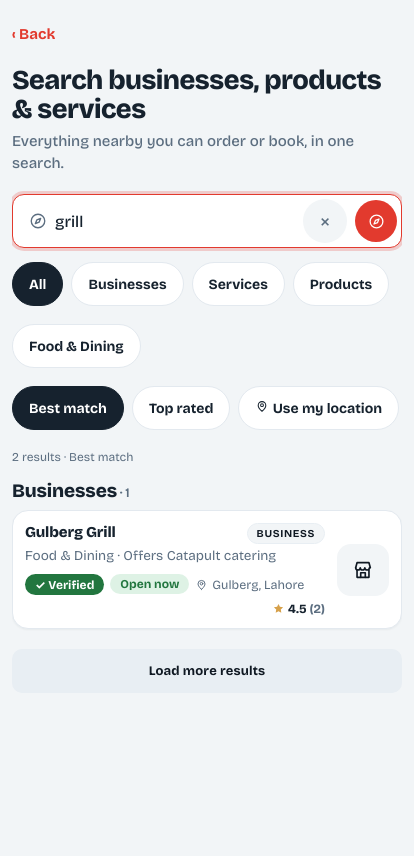
Test: SearchScreen (Phase 14 unified search) › Load more paginates from the latest page and stops when its cursor is null
This screenshot has width=414, height=856.
Click the button "Load more results" at (207, 671), box [12,649,402,693]
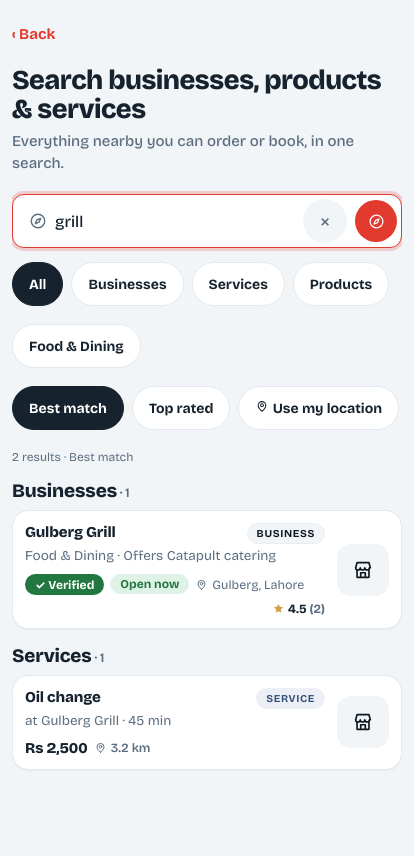
Expected: the text "Oil change" is shown, [25,688,101,706]
Expected: the button "Load more results" is gone
